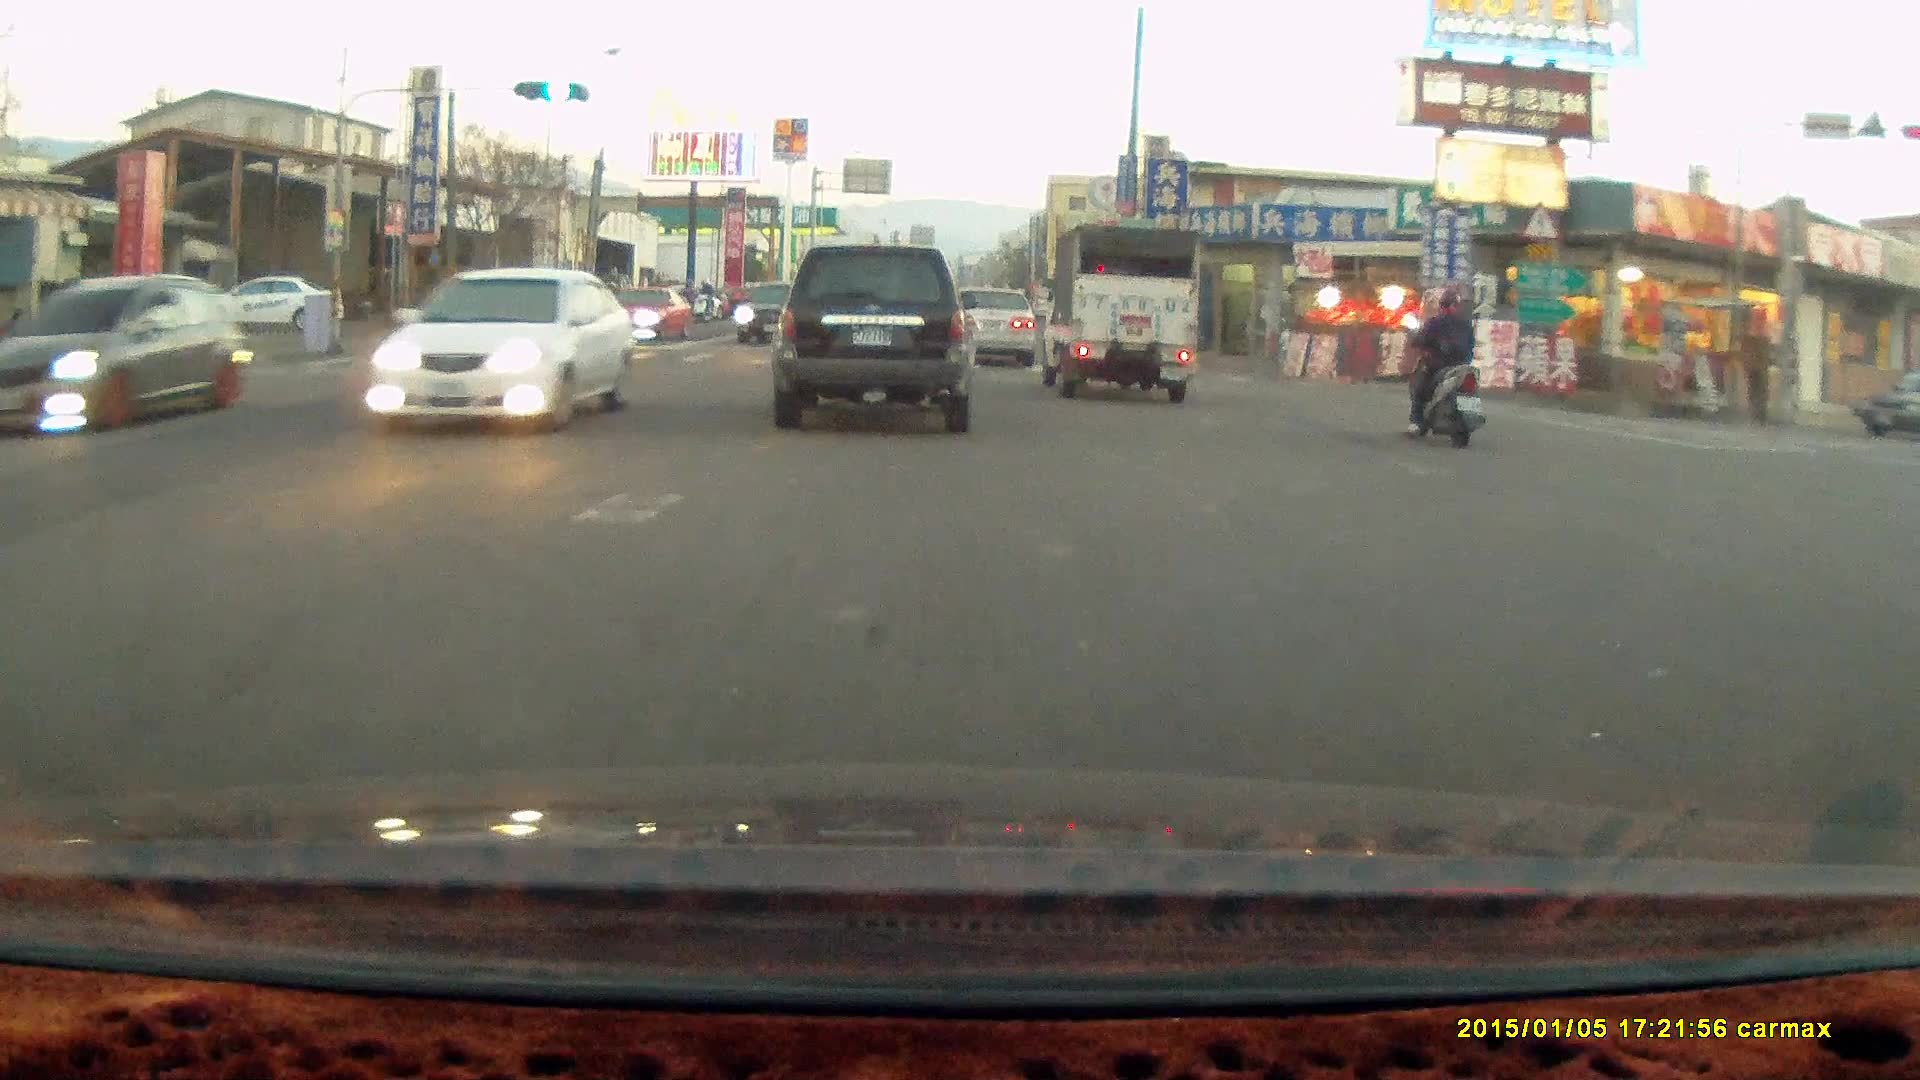rider: (1400, 286, 1487, 446), (689, 280, 716, 326)
vehicle: (1, 275, 253, 437), (377, 271, 636, 425), (769, 243, 976, 433), (1036, 220, 1204, 400), (430, 285, 583, 384), (940, 284, 1035, 367), (199, 279, 340, 331), (951, 289, 1037, 367), (599, 285, 693, 344), (1852, 361, 1920, 443)
